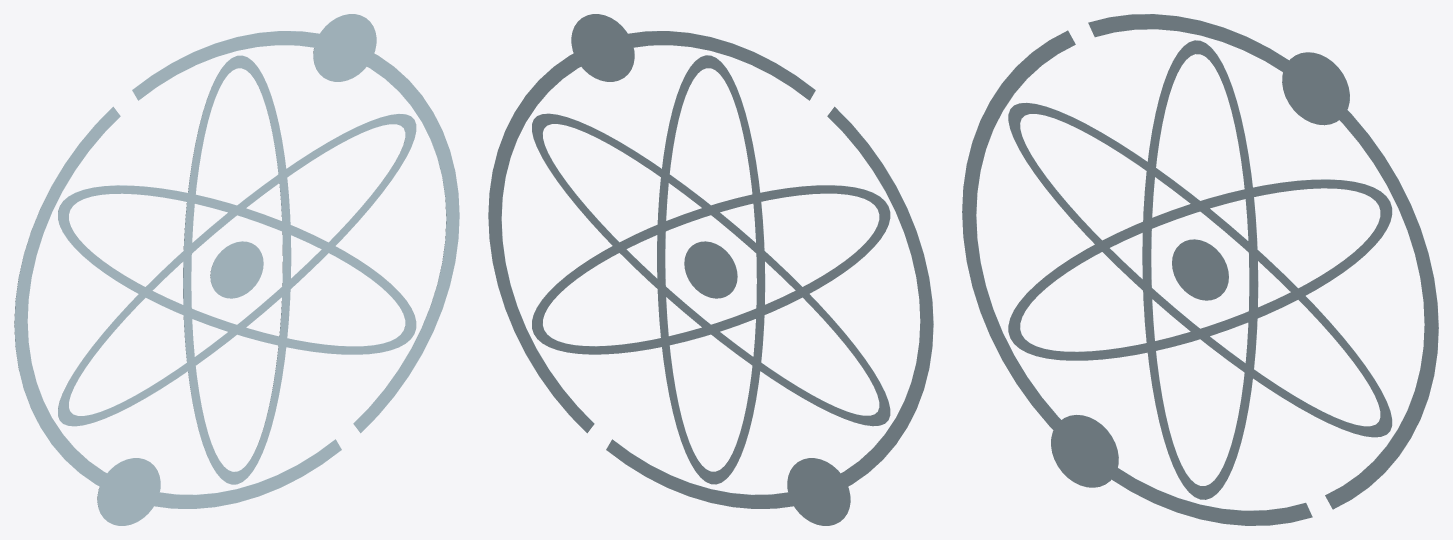
File: Saya.fbx
3 renders of one model, left to right at view 1: azimuth 30°, elevation 25°; view 2: azimuth 150°, elevation 25°; view 3: azimuth 330°, elevation 25°, orthographic. The views are drawn at different scales.
Visible parts, largest first — view 1: 中円, 大円, 端円, 端円.001, 中心円; view 2: 中円, 大円, 端円.001, 端円, 中心円; view 3: 中円, 大円, 端円, 端円.001, 中心円.
Part boxes in pixels (left/top/right/bottom): 中円: left=58, top=55, right=416, bottom=484; 大円: left=14, top=31, right=459, bottom=508; 端円: left=313, top=14, right=376, bottom=81; 端円.001: left=97, top=458, right=160, bottom=525; 中心円: left=210, top=241, right=263, bottom=298; 中円: left=532, top=55, right=890, bottom=484; 大円: left=488, top=31, right=933, bottom=508; 端円.001: left=787, top=458, right=850, bottom=525; 端円: left=571, top=14, right=634, bottom=81; 中心円: left=684, top=241, right=737, bottom=298; 中円: left=1008, top=40, right=1392, bottom=499; 大円: left=962, top=14, right=1438, bottom=525; 端円: left=1282, top=52, right=1349, bottom=125; 端円.001: left=1051, top=414, right=1118, bottom=487; 中心円: left=1172, top=239, right=1228, bottom=300.
Size of the model in its own units: 200 by 200 by 0.2.
